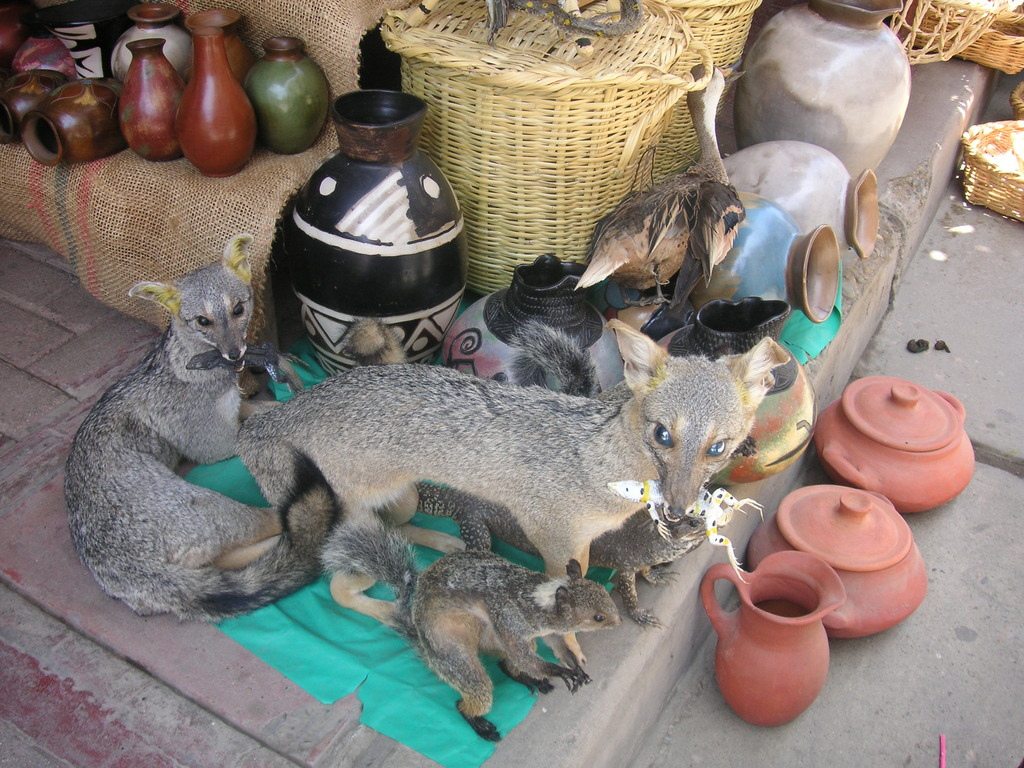Animal: (236, 311, 790, 673), (63, 229, 340, 622), (320, 547, 619, 740), (409, 497, 715, 621), (605, 475, 763, 577)
